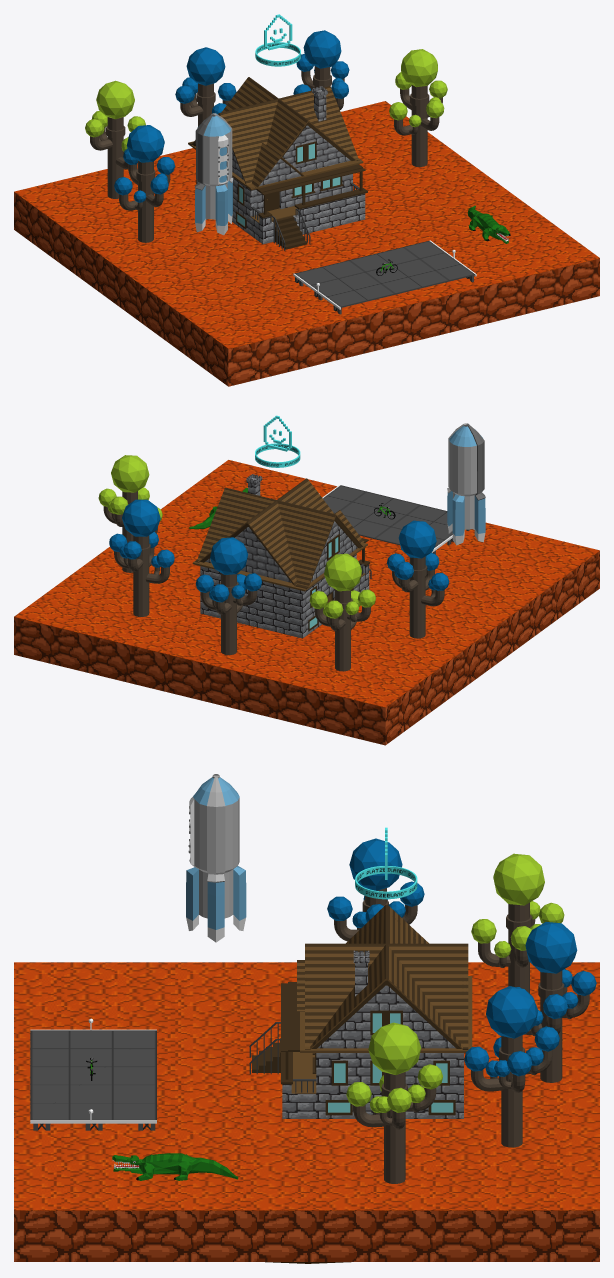
The picture shows the model from 3 angles, top to bottom: view 1: azimuth 30°, elevation 25°; view 2: azimuth 150°, elevation 25°; view 3: azimuth 270°, elevation 25°; orthographic projection. The views are drawn at different scales.
Parts seen in each view (by area): view 1: Cube.001, Cube.586, OBJRANDOM_ROCKETSHIP, TYPE_PREMIUM, ANIMAL_COCODRILO; view 2: Cube.001, Cube.586, OBJRANDOM_ROCKETSHIP, TYPE_PREMIUM; view 3: Cube.001, Cube.586, OBJRANDOM_ROCKETSHIP, ANIMAL_COCODRILO, TYPE_PREMIUM.
Part boxes in pixels (left/top/right/bottom): Cube.001: left=14, top=30, right=599, bottom=386; Cube.586: left=188, top=77, right=367, bottom=250; OBJRANDOM_ROCKETSHIP: left=194, top=113, right=233, bottom=235; TYPE_PREMIUM: left=255, top=14, right=300, bottom=66; ANIMAL_COCODRILO: left=467, top=205, right=510, bottom=243; Cube.001: left=14, top=455, right=599, bottom=745; Cube.586: left=192, top=474, right=371, bottom=638; OBJRANDOM_ROCKETSHIP: left=447, top=423, right=485, bottom=545; TYPE_PREMIUM: left=255, top=415, right=300, bottom=467; Cube.001: left=14, top=838, right=599, bottom=1261; Cube.586: left=249, top=904, right=472, bottom=1118; OBJRANDOM_ROCKETSHIP: left=186, top=774, right=246, bottom=942; ANIMAL_COCODRILO: left=112, top=1153, right=238, bottom=1180; TYPE_PREMIUM: left=355, top=827, right=417, bottom=899.
Size of the model in its own units: 4000 by 2476 by 4000.
36 materials, 6 textured.
